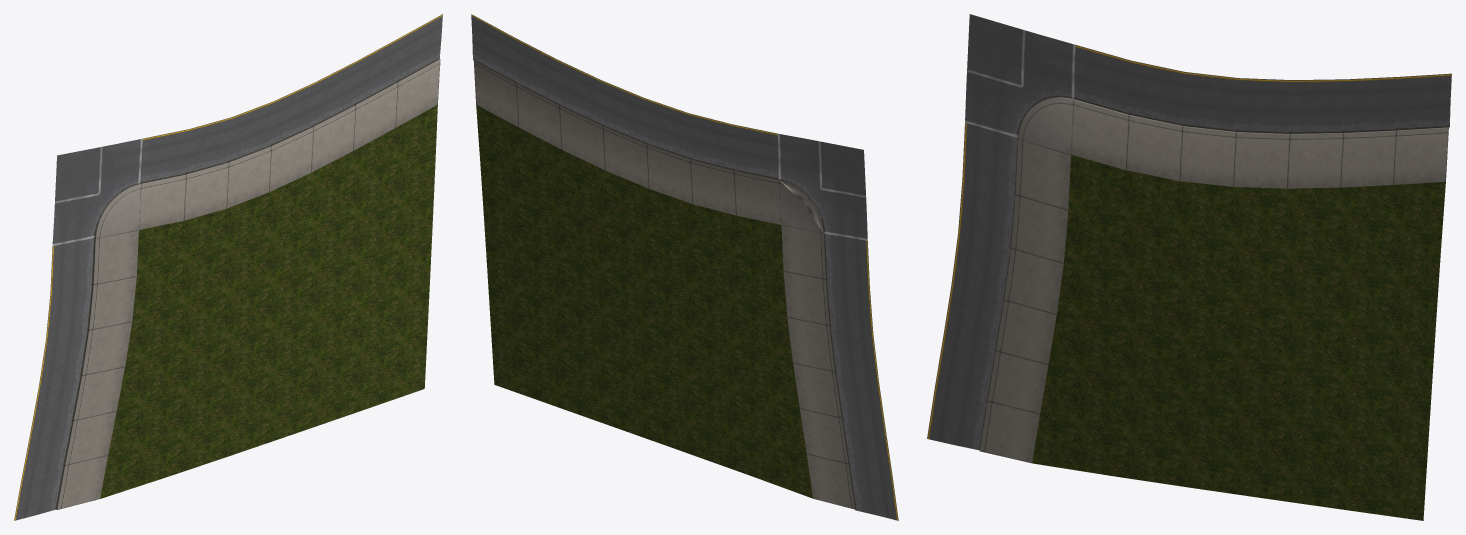
Rendered from lot19.obj.
The picture shows the model from 3 angles, left to right: view 1: azimuth 30°, elevation 25°; view 2: azimuth 150°, elevation 25°; view 3: azimuth 330°, elevation 25°; orthographic projection. The views are drawn at different scales.
Parts seen in each view (by area): view 1: lot19; view 2: lot19; view 3: lot19.
Boxes of the visible parts, x1,y1,x2,y2 form: lot19: (14, 14, 442, 520); lot19: (471, 14, 898, 520); lot19: (927, 14, 1451, 520).
Bounding box in the file's own units: 49.51 × 44.46 × 0.9385.
